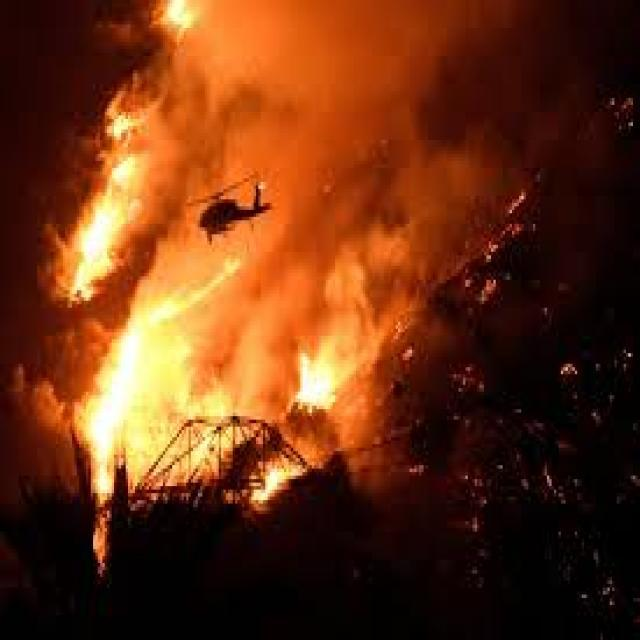Fire: (56, 6, 268, 572), (284, 333, 356, 418)
Smoke: (339, 0, 640, 262), (0, 0, 112, 395)
